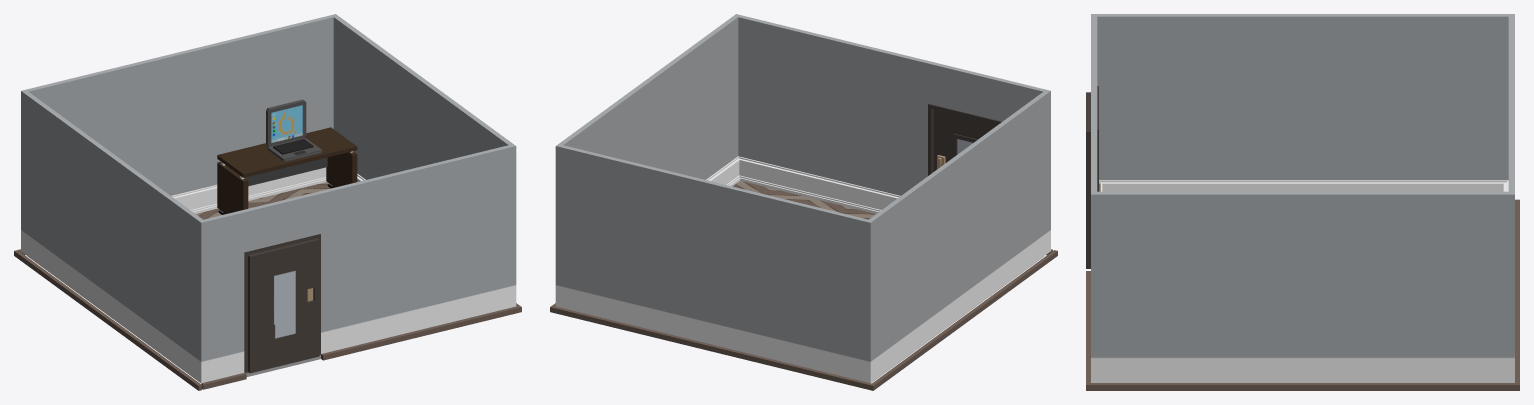
File: Cuarto_Menu.fbx
3 renders of one model, left to right at view 1: azimuth 30°, elevation 25°; view 2: azimuth 150°, elevation 25°; view 3: azimuth 270°, elevation 25°, orthographic. The views are drawn at different scales.
Parts seen in each view (by area): view 1: oficina; view 2: oficina; view 3: oficina.
Boxes of the visible parts, x1,y1,x2,y2 form: oficina: (14, 14, 521, 390); oficina: (550, 14, 1057, 390); oficina: (1086, 14, 1519, 390).
Bounding box in the file's own units: 540 × 264 × 534.
1 material, 1 textured.
